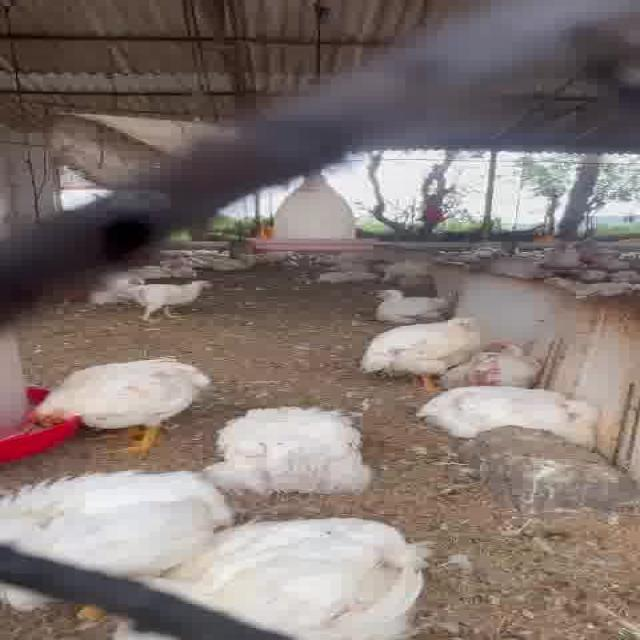AbNormal: (138, 508, 437, 638), (0, 468, 225, 584), (206, 398, 381, 501), (423, 384, 610, 446), (347, 281, 490, 326), (426, 342, 554, 387)
Normal: (30, 351, 238, 459), (358, 308, 488, 394), (111, 272, 236, 320)
